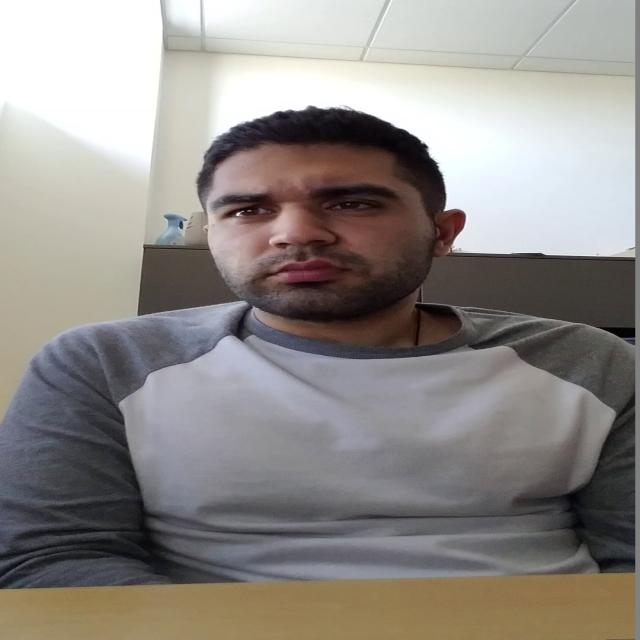sem_oculos: (192, 185, 454, 229)
